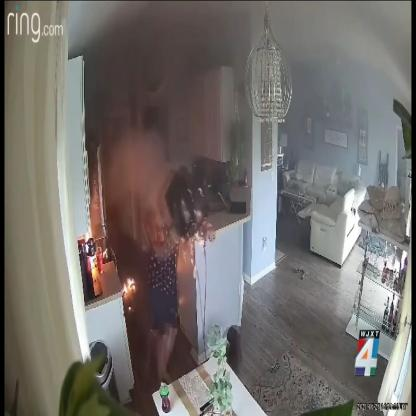fire: (122, 277, 136, 295)
